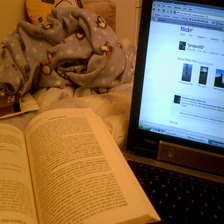laptop: (80, 1, 224, 222)
